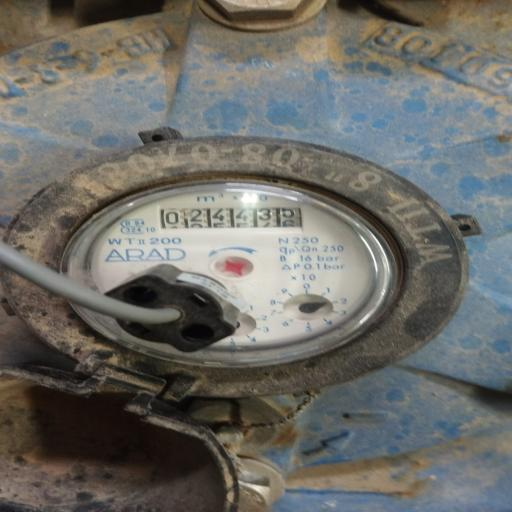0: (161, 210, 182, 225)
2: (188, 207, 208, 223)
3: (256, 206, 275, 222)
4: (234, 208, 253, 222), (211, 207, 229, 221)
6: (280, 218, 300, 228)
medida: (157, 205, 303, 229)
